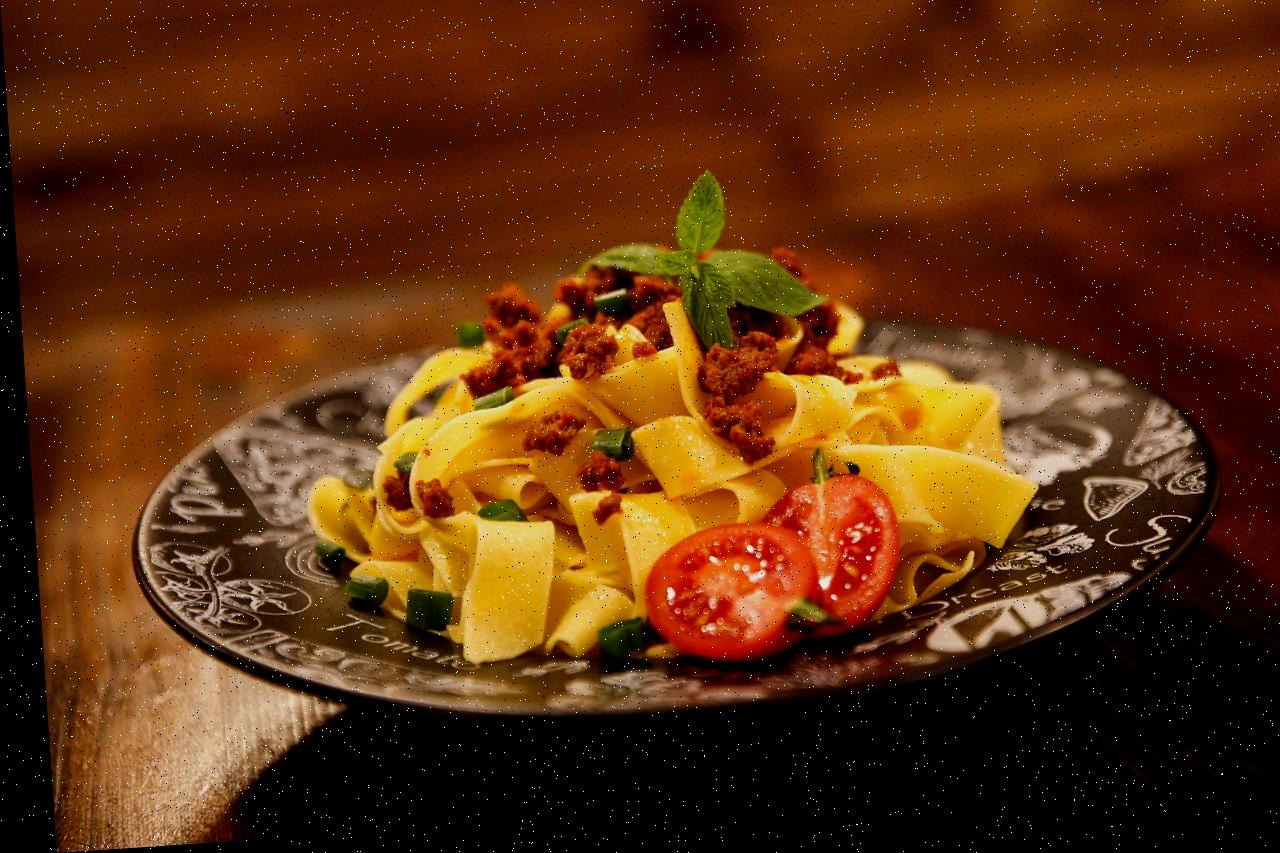pasta: (309, 270, 1036, 662)
